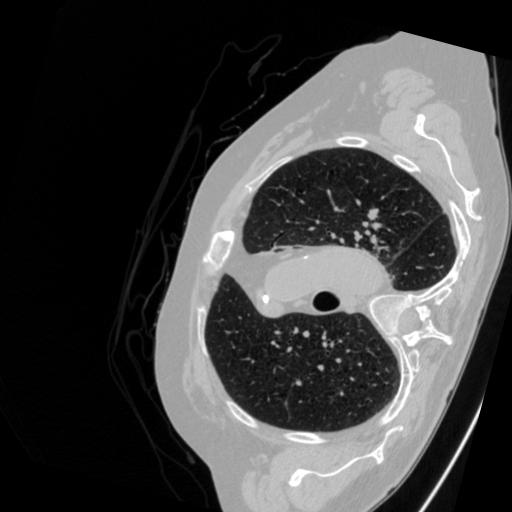nodule: (363, 206, 384, 227)
